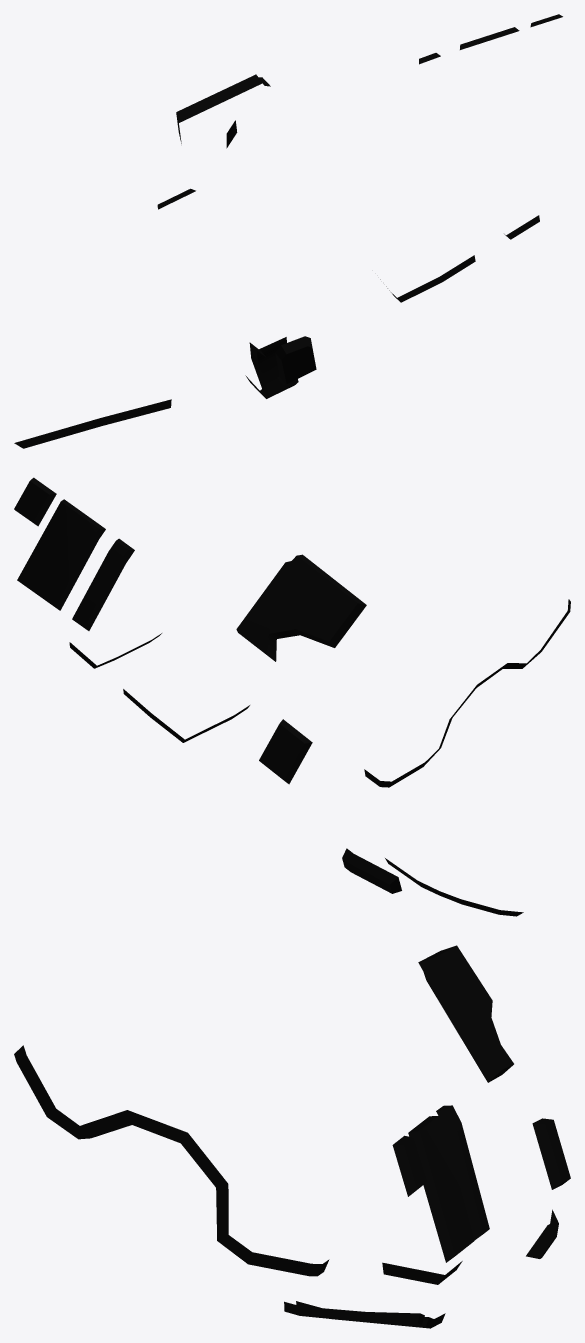
File: ama_ship_wreck_02_05.glb
3 renders of one model, top to bottom at view 1: azimuth 30°, elevation 25°; view 2: azimuth 150°, elevation 25°; view 3: azimuth 270°, elevation 25°, orthographic. The views are drawn at different scales.
Visible parts, largest first — view 1: ama_ship_wreck_02_05_LOD0; view 2: ama_ship_wreck_02_05_LOD0; view 3: ama_ship_wreck_02_05_LOD0.
Part boxes in pixels (box(x1,y1,x2,y2)): ama_ship_wreck_02_05_LOD0: box(14, 14, 562, 448); ama_ship_wreck_02_05_LOD0: box(14, 477, 570, 916); ama_ship_wreck_02_05_LOD0: box(14, 945, 570, 1328).
Size of what is drawn, in the model's own units: 2.91 by 1.63 by 1.97.
Materials: 1 (1 with a texture image).
